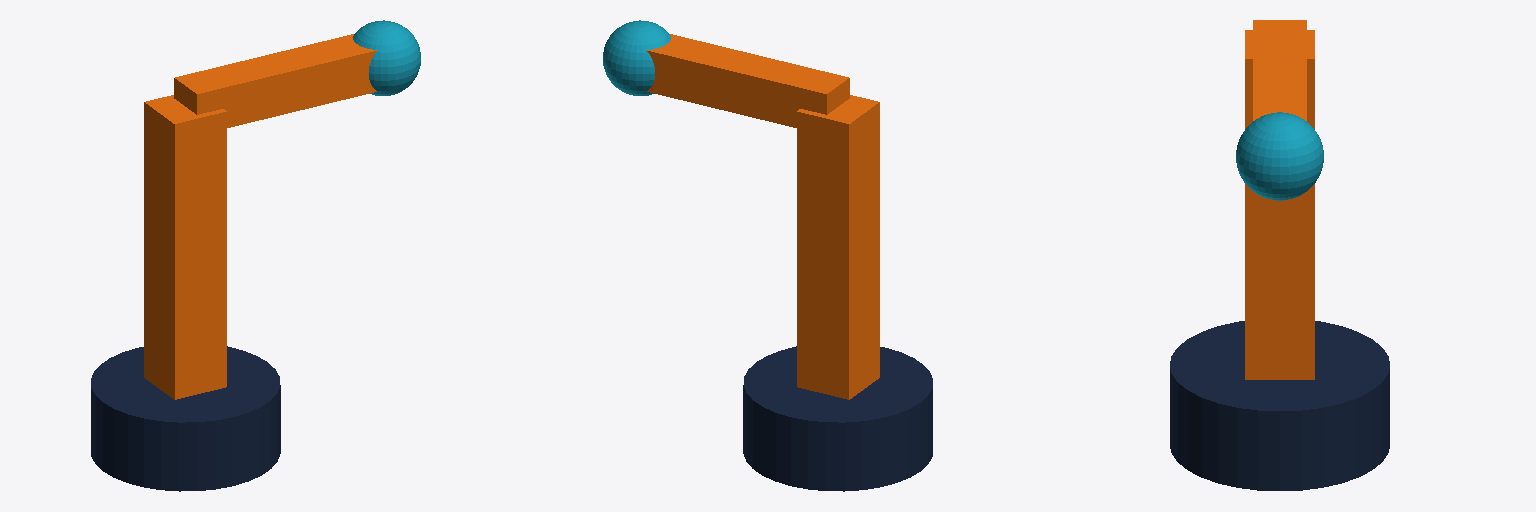
robot.urdf — RoboSim demo arm:
<?xml version="1.0"?>
<robot name="RoboSim demo arm">
  <material name="base"><color rgba="0.14 0.2 0.3 1"/></material>
  <material name="arm"><color rgba="0.95 0.48 0.1 1"/></material>
  <material name="tool"><color rgba="0.15 0.65 0.75 1"/></material>
  <link name="base">
    <visual><origin xyz="0 0 0.1"/><geometry><cylinder radius="0.25" length="0.2"/></geometry><material name="base"/></visual>
  </link>
  <link name="upper_arm">
    <visual><origin xyz="0 0 0.4"/><geometry><box size="0.16 0.16 0.8"/></geometry><material name="arm"/></visual>
  </link>
  <link name="forearm">
    <visual><origin xyz="0.3 0 0"/><geometry><box size="0.6 0.12 0.12"/></geometry><material name="arm"/></visual>
  </link>
  <link name="tool">
    <visual><geometry><sphere radius="0.1"/></geometry><material name="tool"/></visual>
  </link>
  <joint name="shoulder" type="revolute">
    <parent link="base"/><child link="upper_arm"/><origin xyz="0 0 0.2"/>
    <axis xyz="0 0 1"/><limit lower="-3.14" upper="3.14" effort="10" velocity="1"/>
  </joint>
  <joint name="elbow" type="revolute">
    <parent link="upper_arm"/><child link="forearm"/><origin xyz="0 0 0.8"/>
    <axis xyz="0 1 0"/><limit lower="-1.5" upper="1.5" effort="10" velocity="1"/>
  </joint>
  <joint name="wrist" type="fixed">
    <parent link="forearm"/><child link="tool"/><origin xyz="0.6 0 0"/>
  </joint>
</robot>

--- Render facts (derived) ---
The picture shows the robot from 3 angles, left to right: view 1: azimuth 30°, elevation 25°; view 2: azimuth 150°, elevation 25°; view 3: azimuth 270°, elevation 25°; orthographic projection.
Model RoboSim demo arm with 4 links and 3 joints (2 revolute, 1 fixed), rooted at base, posed all joints at 0.
Visible links, largest first — view 1: upper_arm, base, forearm, tool; view 2: upper_arm, base, forearm, tool; view 3: base, upper_arm, tool, forearm.
Boxes of the visible links, x1,y1,x2,y2 form: upper_arm: (144, 95, 226, 399); base: (91, 346, 280, 491); forearm: (174, 34, 376, 127); tool: (353, 20, 420, 95); upper_arm: (797, 95, 879, 399); base: (743, 346, 932, 491); forearm: (647, 34, 849, 127); tool: (603, 20, 670, 95); base: (1170, 321, 1389, 490); upper_arm: (1245, 30, 1314, 379); tool: (1236, 112, 1323, 200); forearm: (1253, 20, 1306, 120).
Size in the robot's own frame: 0.95 by 0.5 by 1.1 metres.
Geometry: primitives only (box / cylinder / sphere), no mesh files.
